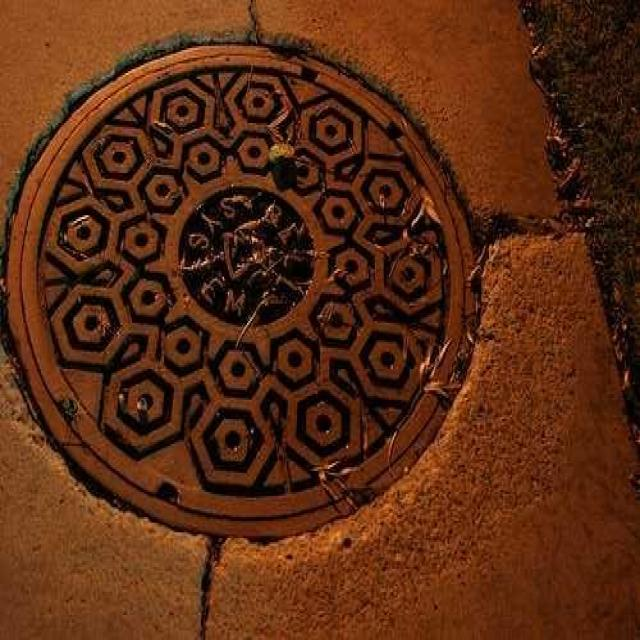manhole: (4, 43, 475, 536)
